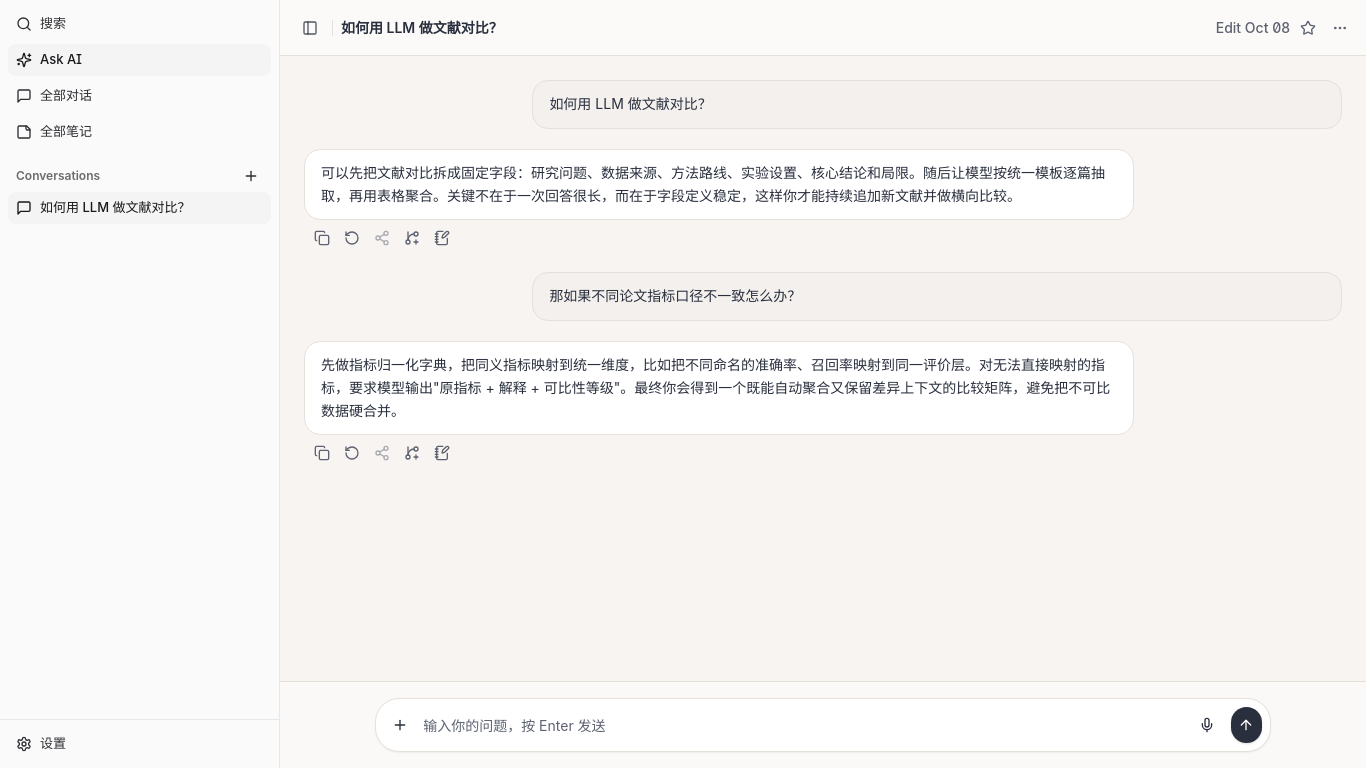
Scenario: HomePage › shows conversation list pane from sidebar entry
Click the button "全部对话": (66, 95) x1=8 y1=80 x2=271 y2=112
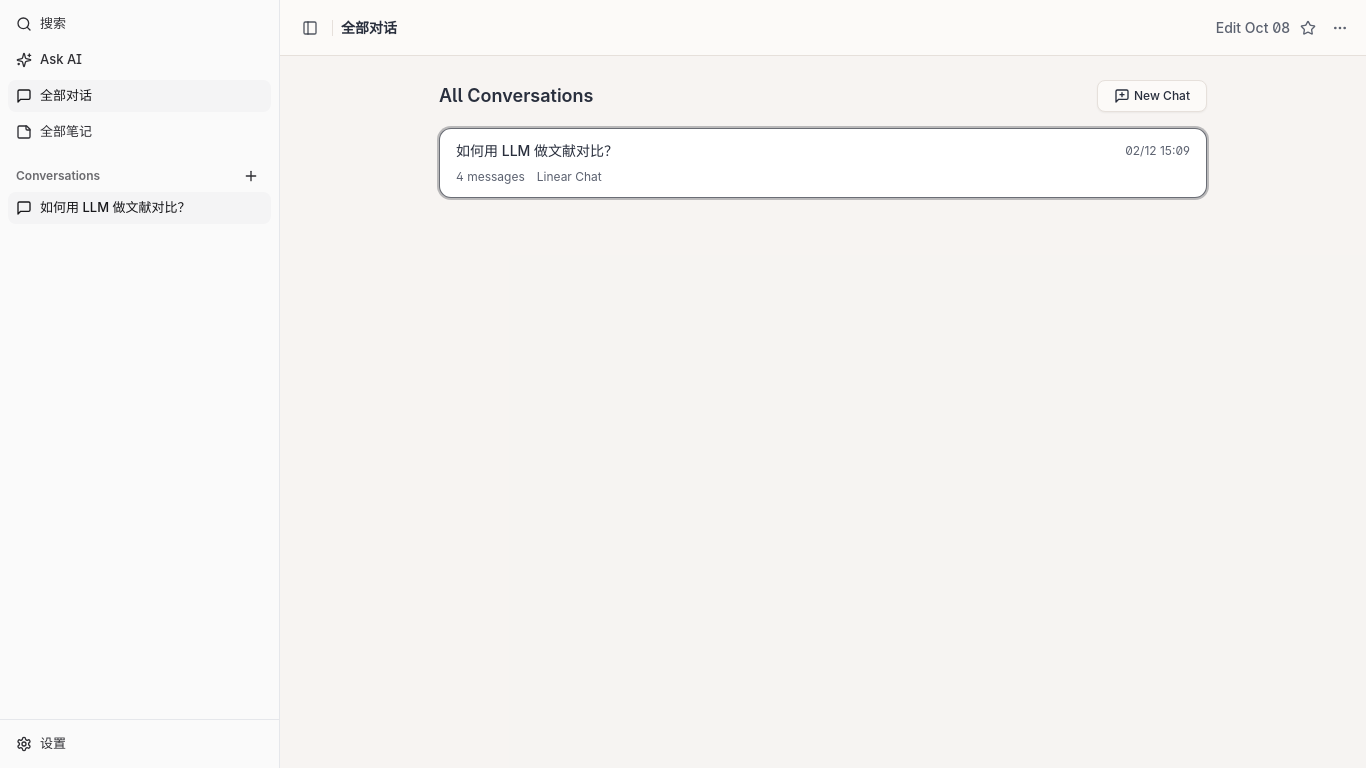
Expected: the heading "All Conversations" is shown, x1=439 y1=82 x2=594 y2=110
Expected: the button "New Chat" is shown, x1=1097 y1=80 x2=1207 y2=112
